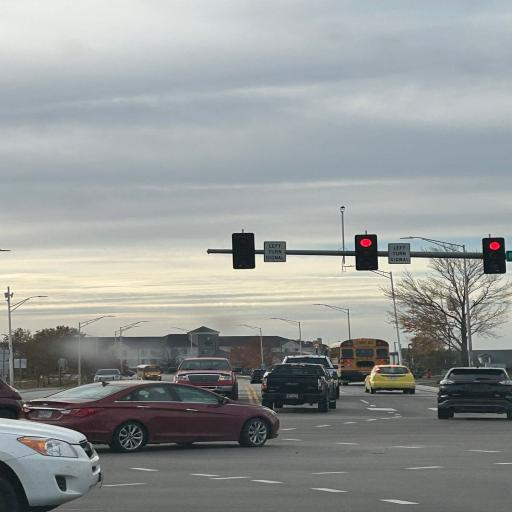bicycle: (329, 338, 389, 385), (137, 365, 161, 380)
bottle: (22, 381, 279, 452), (0, 419, 101, 511), (438, 368, 511, 419), (262, 364, 337, 412), (171, 358, 241, 400), (283, 355, 340, 398), (365, 365, 415, 393), (0, 379, 22, 419), (94, 369, 123, 382), (251, 369, 267, 383), (123, 375, 143, 380)
phone: (390, 272, 402, 365), (464, 259, 472, 367), (7, 287, 14, 386), (78, 323, 81, 385), (341, 207, 345, 251), (260, 328, 264, 366), (120, 327, 123, 374), (298, 322, 302, 355), (347, 309, 351, 339)
ramp: (59, 385, 511, 511)
table: (232, 233, 255, 269), (483, 238, 506, 274), (355, 235, 378, 270)
